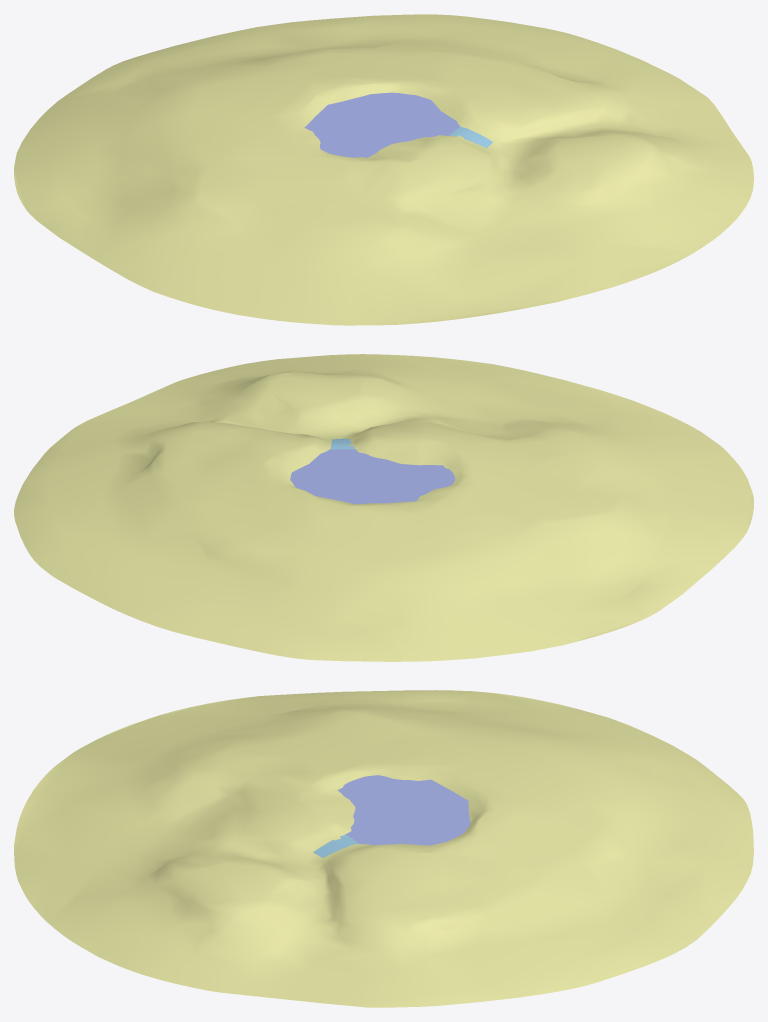
The model's file is island04.fbx.
3 views of the same model, one above another, from view 1: azimuth 30°, elevation 25°; view 2: azimuth 150°, elevation 25°; view 3: azimuth 270°, elevation 25° (orthographic). The views are drawn at different scales.
Parts seen in each view (by area): view 1: island.008; view 2: island.008; view 3: island.008.
Boxes of the visible parts, x1,y1,x2,y2 form: island.008: (14,14,753,325); island.008: (14,354,753,661); island.008: (14,690,753,1007).
Bounding box in the file's own units: 6392 × 431 × 6295.
